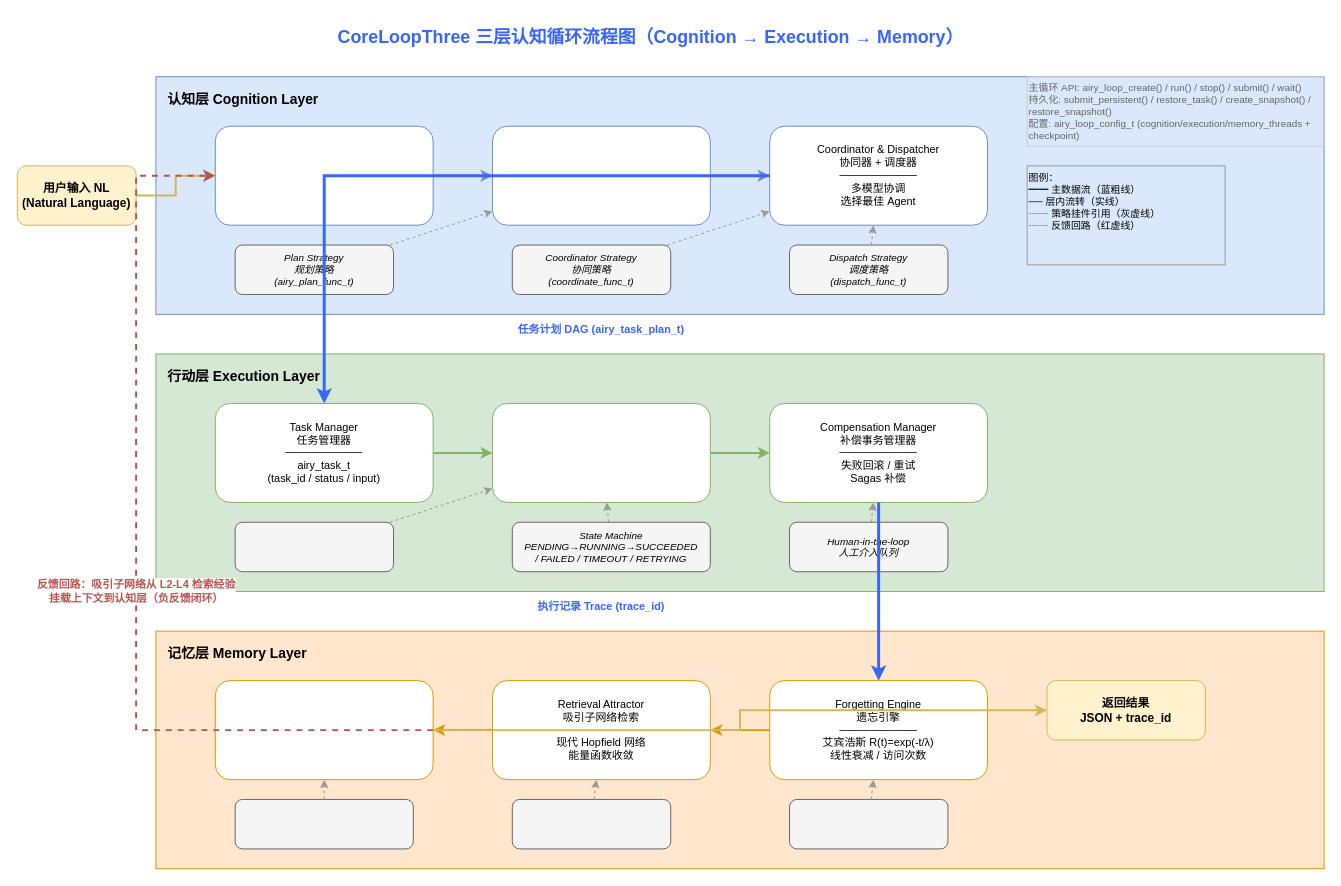
This 1341x886 diagram has some shape labels left out. Each missing label, with the centre of its shape:
Evolve Committee 记忆进化委员会: the point at 868,823
Execution Engine 执行引擎 ────────── 调用 execution_unit.execute() 支持 7 状态状态机: the point at 601,452
Intent Parser 意图解析器 ────────── 产出: airy_intent_t (intent_goal / flags / context): the point at 323,175
L1-L4 Layers (FFI → MemoryRovol 四层): the point at 323,823
Memory Engine 记忆引擎封装 ────────── airy_memory_engine_t write / get / delete: the point at 323,730
Mount Context 上下文挂载 (memoryrov_mount): the point at 591,823
Plan Generator 规划生成器 ────────── 产出: airy_task_plan_t (DAG: nodes + entry_points): the point at 601,175
Unit Registry 执行单元注册表: the point at 314,546
